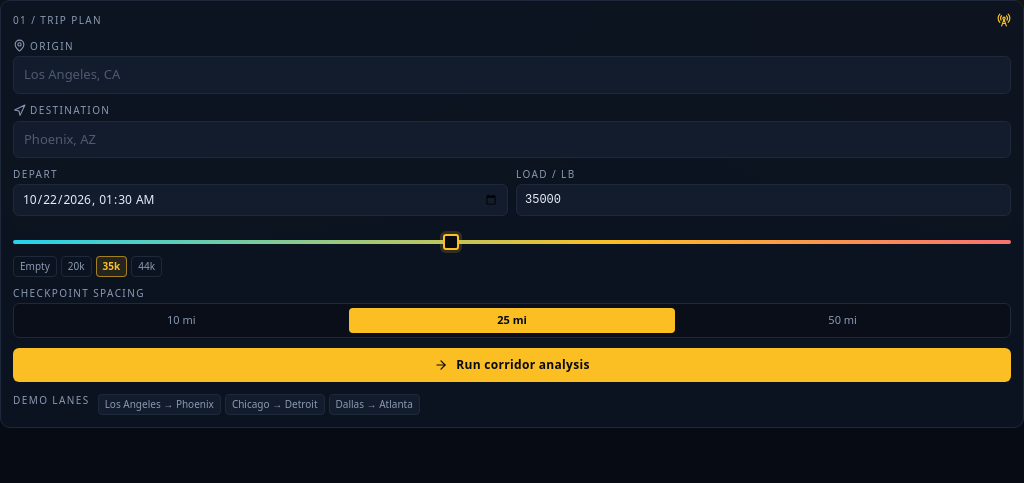
PlanForm › shows validation messages for empty endpoints
Click the button "Run corridor analysis".
click(512, 364)  # box [13, 348, 1011, 382]
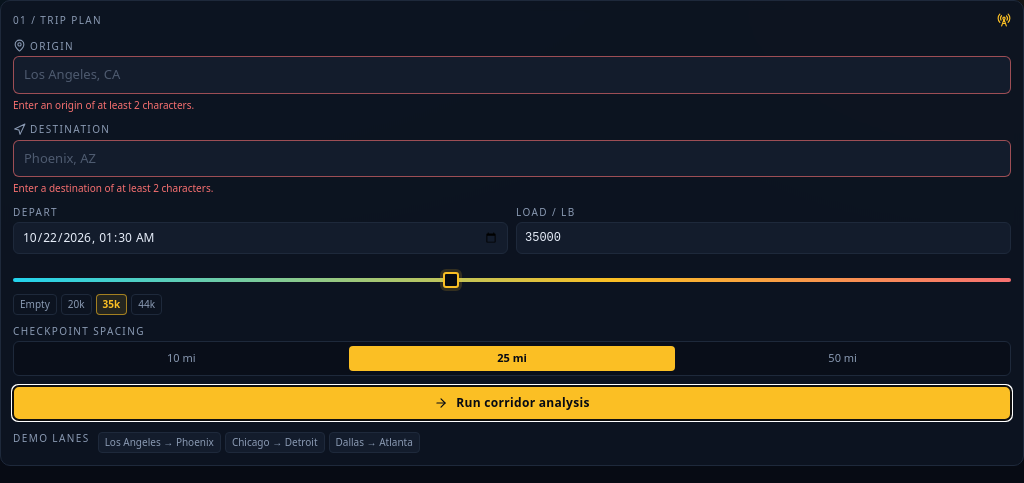
Check: the text "Enter an origin of at least 2 characters." is shown, box [13, 98, 194, 112]
Check: the text "Enter a destination of at least 2 characters." is shown, box [13, 181, 213, 195]
